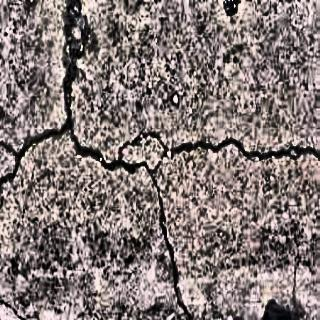crack: (78, 122, 315, 192), (153, 193, 199, 320), (0, 121, 72, 187), (62, 0, 92, 117)
